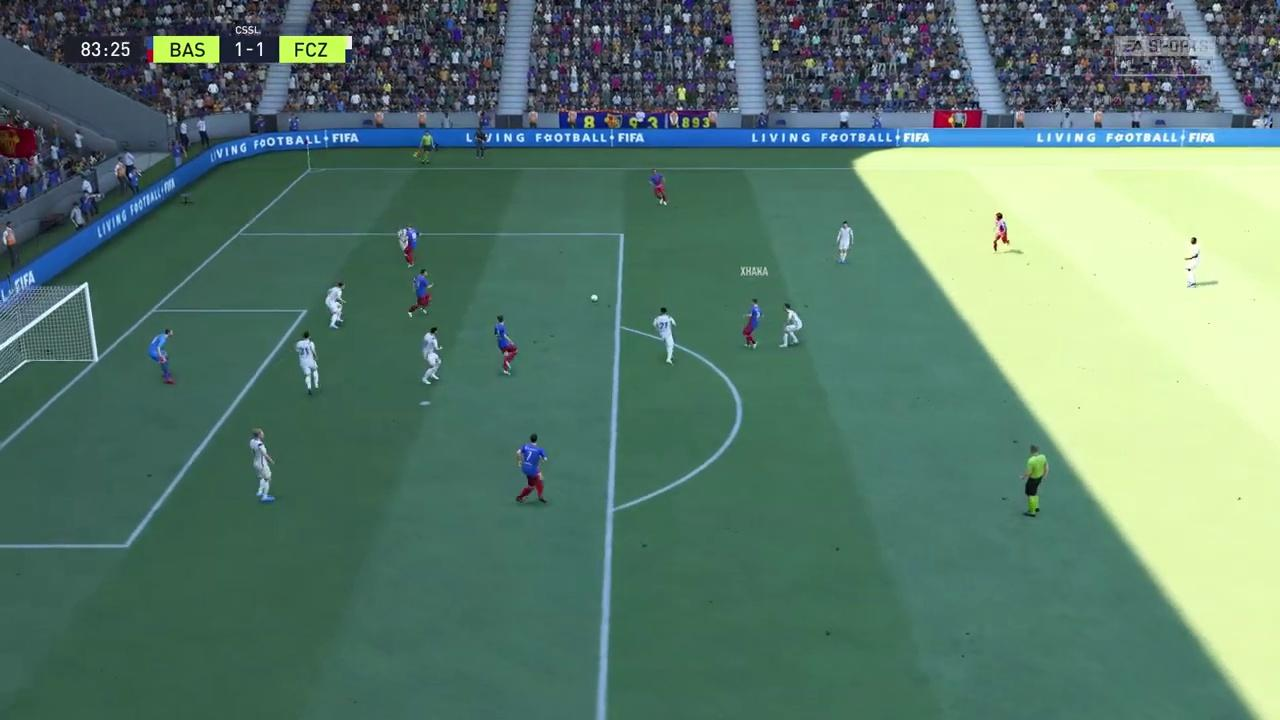scoreboard: (153, 37, 350, 65)
timestamp: (67, 35, 144, 59)
